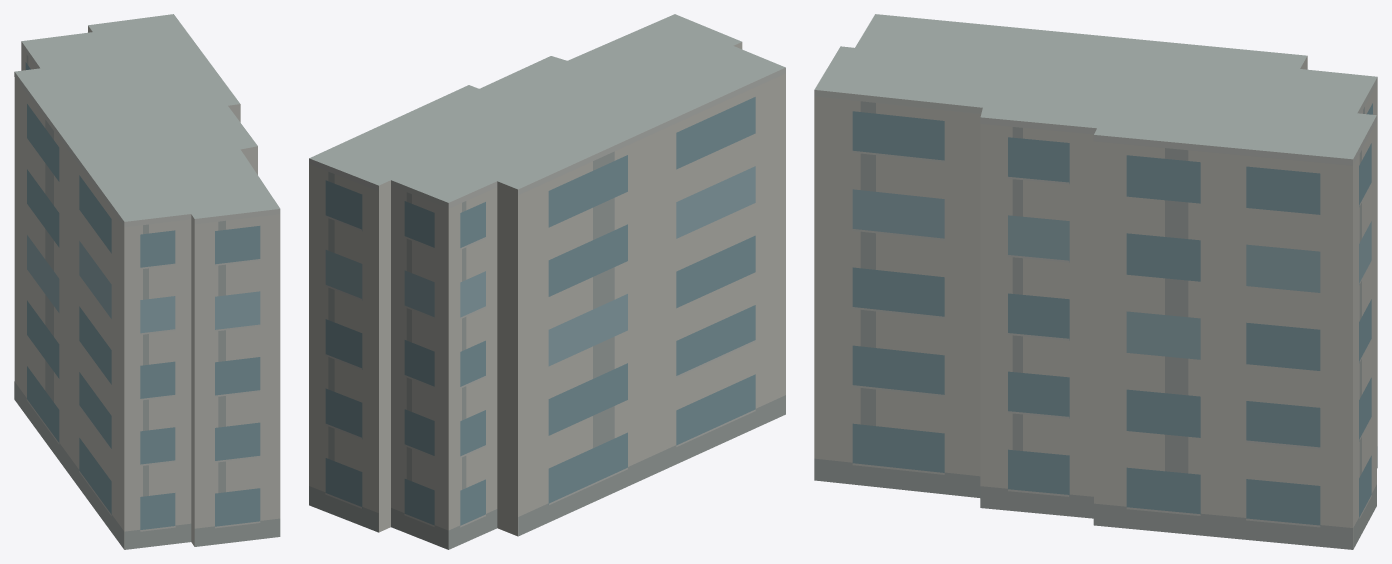
File: survey-upis-32601037.glb
3 renders of one model, left to right at view 1: azimuth 30°, elevation 25°; view 2: azimuth 150°, elevation 25°; view 3: azimuth 270°, elevation 25°, orthographic. The views are drawn at different scales.
Visible parts, largest first — view 1: survey-upis-32601037.tmp; view 2: survey-upis-32601037.tmp; view 3: survey-upis-32601037.tmp.
Part boxes in pixels (x1,y1,x2,y2): survey-upis-32601037.tmp: (14,14,280,549); survey-upis-32601037.tmp: (309,14,785,549); survey-upis-32601037.tmp: (814,14,1377,549).
Bounding box in the file's own units: 11.66 × 14.6 × 19.09.
